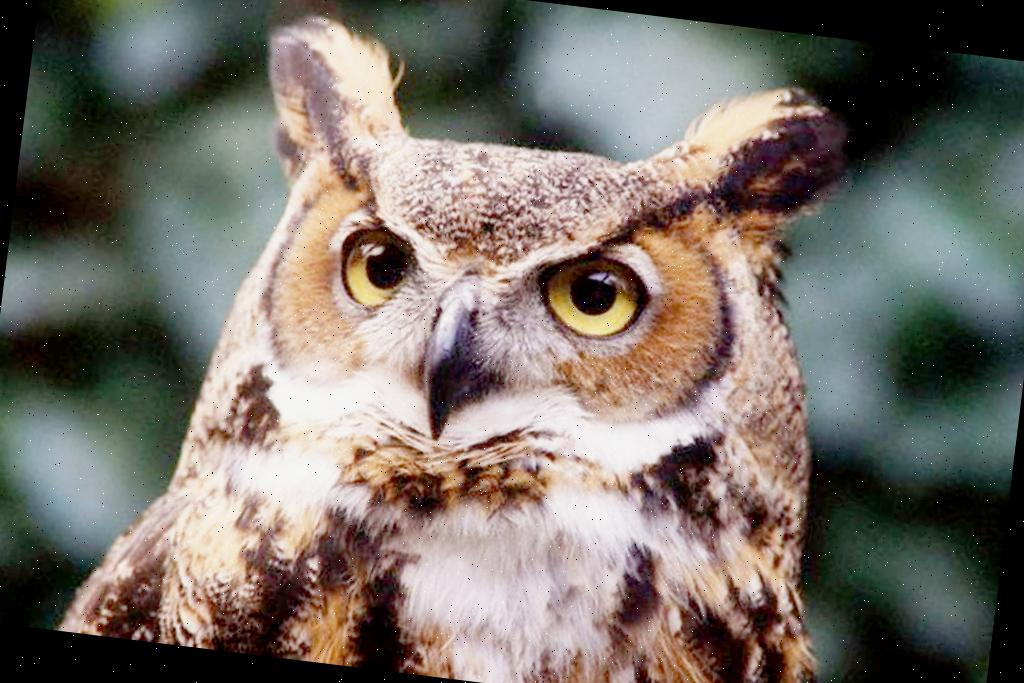Owl: (58, 0, 902, 683)
